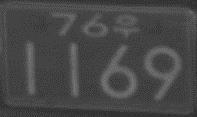1: (58, 41, 88, 98), (16, 39, 46, 95)
6: (99, 43, 138, 99), (82, 9, 107, 37)
7: (50, 9, 79, 37)
9: (142, 43, 183, 101)
우: (112, 12, 139, 39)
